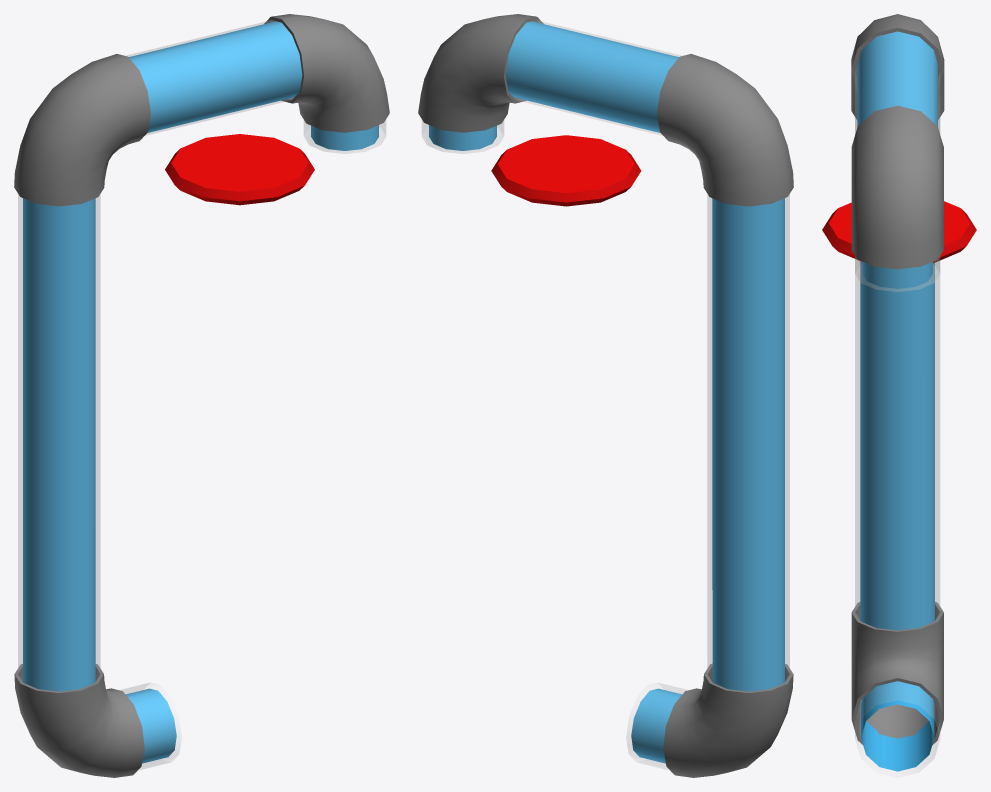
File: pipeline_obstacle.fbx
3 views of the same model, side by side, from view 1: azimuth 30°, elevation 25°; view 2: azimuth 150°, elevation 25°; view 3: azimuth 270°, elevation 25° (orthographic). The views are drawn at different scales.
Visible parts, largest first — view 1: pipe_obstacle, pipeclose_obstacle; view 2: pipe_obstacle, pipeclose_obstacle; view 3: pipe_obstacle, pipeclose_obstacle.
Part boxes in pixels (left/top/right/bottom): pipe_obstacle: left=14, top=14, right=389, bottom=777; pipeclose_obstacle: left=165, top=134, right=314, bottom=205; pipe_obstacle: left=418, top=14, right=793, bottom=777; pipeclose_obstacle: left=491, top=135, right=641, bottom=206; pipe_obstacle: left=851, top=14, right=944, bottom=777; pipeclose_obstacle: left=822, top=201, right=976, bottom=262.
Size of the model in its own units: 139 by 260 by 49.63.
